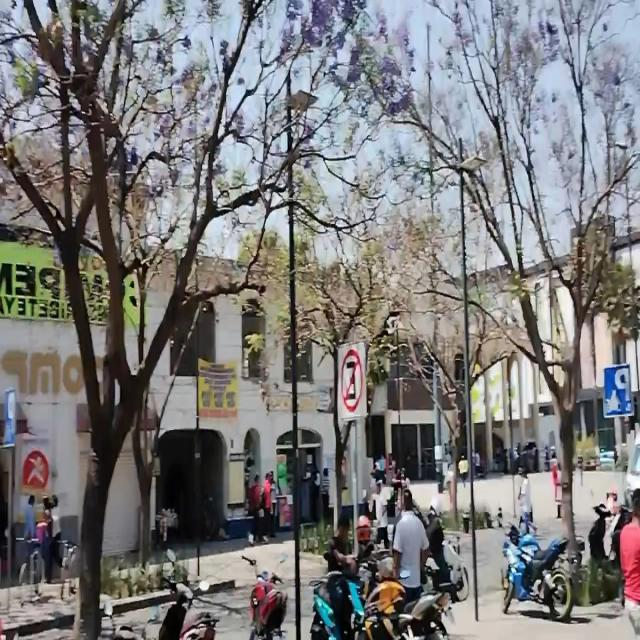adult: (394, 490, 428, 591), (42, 492, 64, 582), (247, 472, 263, 546), (262, 470, 276, 533), (25, 491, 36, 561)
